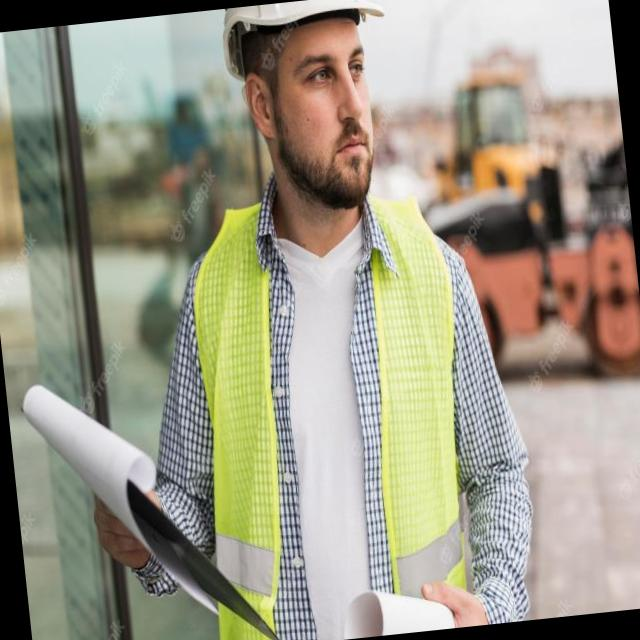Helmet: (172, 0, 430, 90)
Vest: (170, 190, 483, 640)
